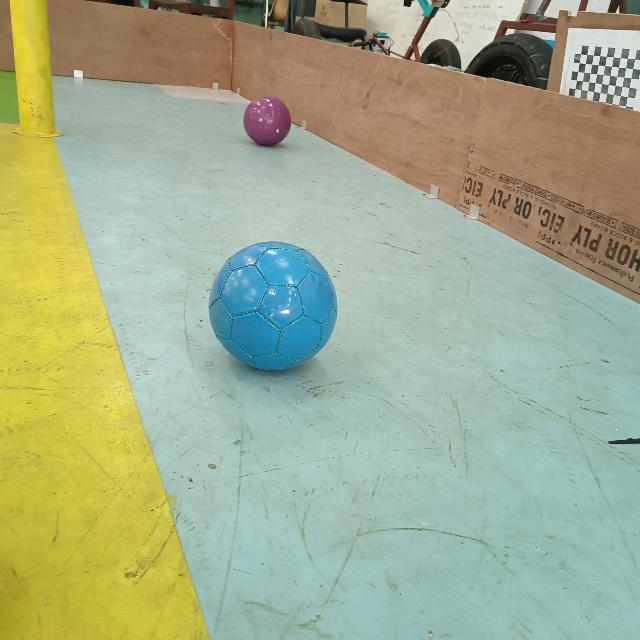B: (210, 240, 340, 372)
P: (244, 96, 292, 146)
